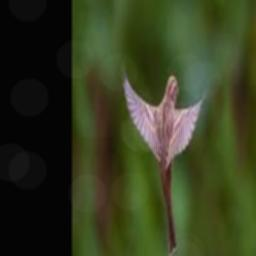Sparrow: (121, 62, 208, 256)
